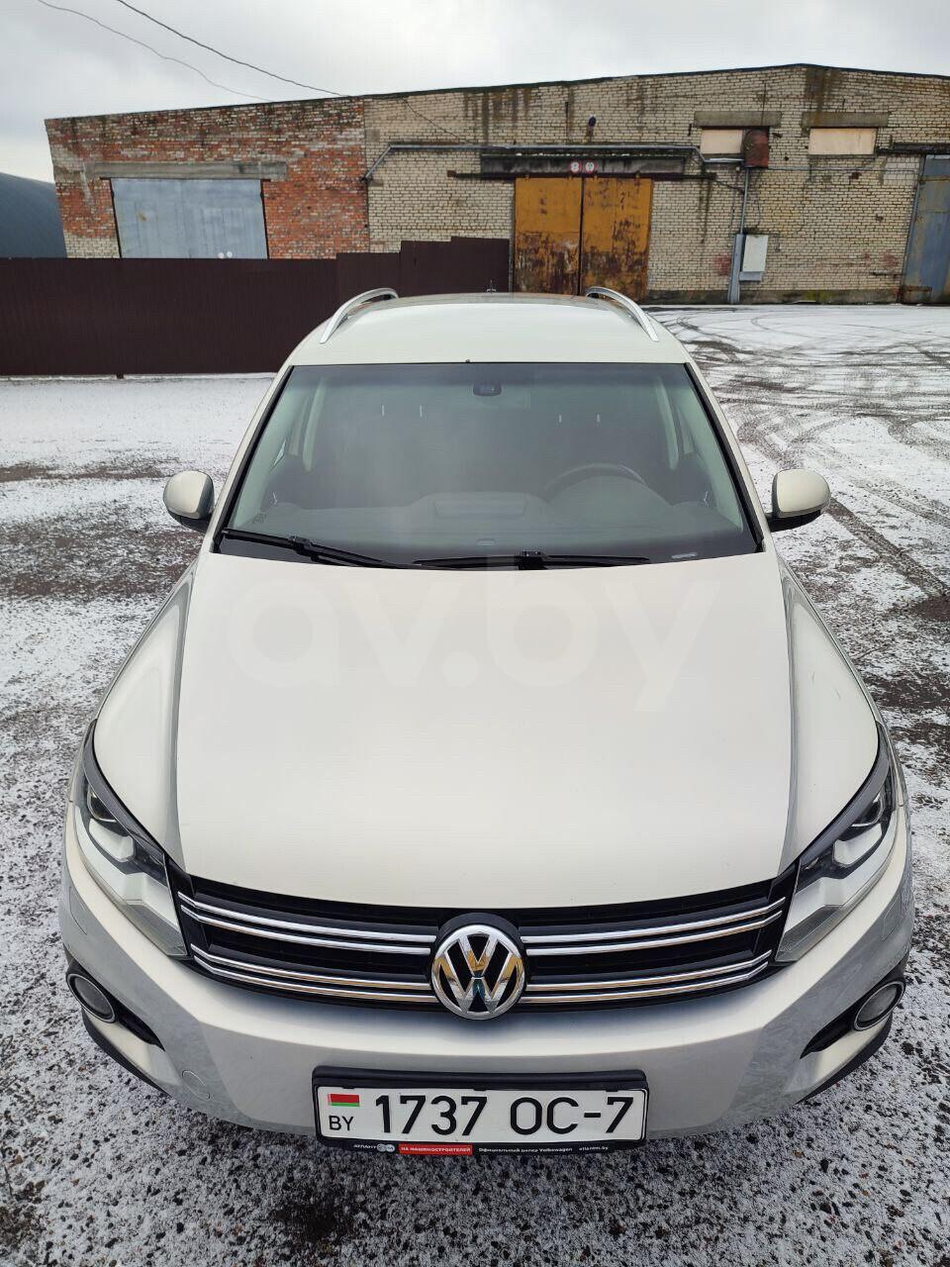Tiguan_2011-2018: (56, 280, 919, 1176)
